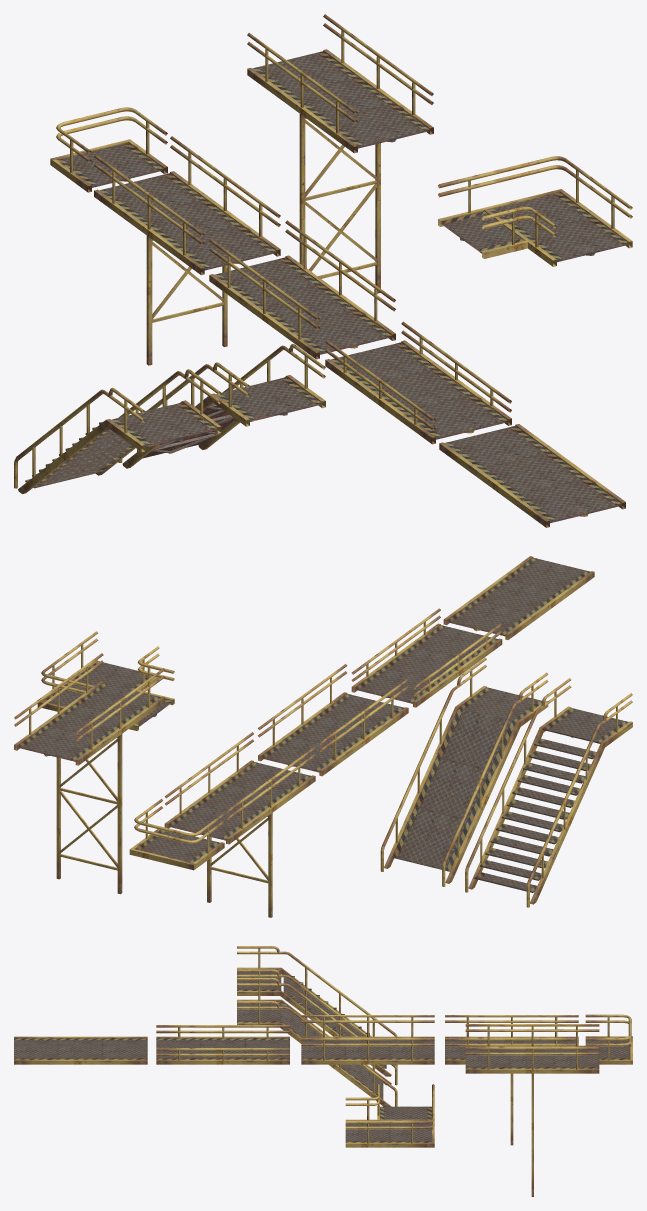
File: Support_set_v1_bridge3.FBX
3 views of the same model, one above another, from view 1: azimuth 30°, elevation 25°; view 2: azimuth 150°, elevation 25°; view 3: azimuth 270°, elevation 25° (orthographic). The views are drawn at different scales.
Parts seen in each view (by area): view 1: Support_set_v1_bridge3_5, Support_set_v1_bridge3_1, Support_set_v1_bridge3_2, Support_set_v1_bridge3_B1, Support_set_v1_bridge3_3, Support_set_v1_bridge3_4, Support_set_v1_bridge3_S2, Support_set_v1_bridge3_S1, Support_set_v1_bridge3_E1; view 2: Support_set_v1_bridge3_S1, Support_set_v1_bridge3_S2, Support_set_v1_bridge3_5, Support_set_v1_bridge3_1, Support_set_v1_bridge3_2, Support_set_v1_bridge3_3, Support_set_v1_bridge3_4, Support_set_v1_bridge3_B1, Support_set_v1_bridge3_E1; view 3: Support_set_v1_bridge3_5, Support_set_v1_bridge3_3, Support_set_v1_bridge3_2, Support_set_v1_bridge3_S1, Support_set_v1_bridge3_S2, Support_set_v1_bridge3_4, Support_set_v1_bridge3_B1, Support_set_v1_bridge3_1, Support_set_v1_bridge3_E1.
Boxes of the visible parts, x1,y1,x2,y2 form: Support_set_v1_bridge3_5: (247,14,433,293); Support_set_v1_bridge3_1: (94,136,280,365); Support_set_v1_bridge3_2: (209,220,395,359); Support_set_v1_bridge3_B1: (438,156,632,266); Support_set_v1_bridge3_3: (325,321,511,444); Support_set_v1_bridge3_4: (439,424,625,527); Support_set_v1_bridge3_S2: (14,369,221,493); Support_set_v1_bridge3_S1: (118,344,325,468); Support_set_v1_bridge3_E1: (50,107,167,192); Support_set_v1_bridge3_S1: (380,657,548,886); Support_set_v1_bridge3_S2: (465,678,632,907); Support_set_v1_bridge3_5: (14,653,164,894); Support_set_v1_bridge3_1: (164,732,315,917); Support_set_v1_bridge3_2: (258,664,408,776); Support_set_v1_bridge3_3: (351,608,502,707); Support_set_v1_bridge3_4: (443,556,594,639); Support_set_v1_bridge3_B1: (37,631,174,731); Support_set_v1_bridge3_E1: (129,799,224,870); Support_set_v1_bridge3_5: (465,1024,599,1196); Support_set_v1_bridge3_3: (156,1025,289,1064); Support_set_v1_bridge3_2: (301,1015,434,1064); Support_set_v1_bridge3_S1: (237,978,397,1106); Support_set_v1_bridge3_S2: (237,946,397,1076); Support_set_v1_bridge3_4: (14,1036,147,1064); Support_set_v1_bridge3_B1: (345,1084,434,1147); Support_set_v1_bridge3_1: (445,1015,578,1145); Support_set_v1_bridge3_E1: (585,1014,632,1064).
Bounding box in the file's own units: 15.16 × 6 × 22.5.
